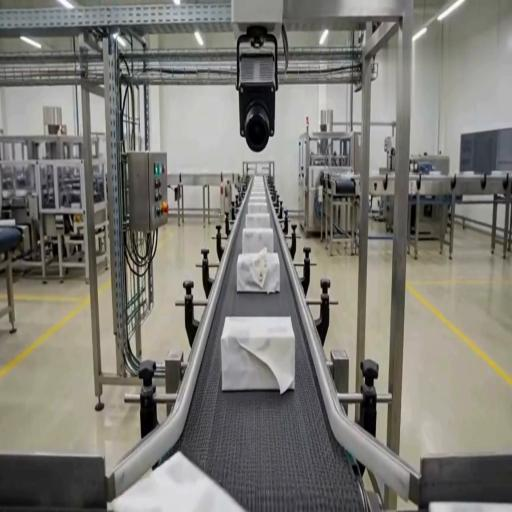defective: (112, 450, 252, 510), (221, 315, 294, 393), (236, 251, 282, 294), (242, 227, 276, 258)
good: (248, 185, 270, 212), (245, 212, 271, 231)
